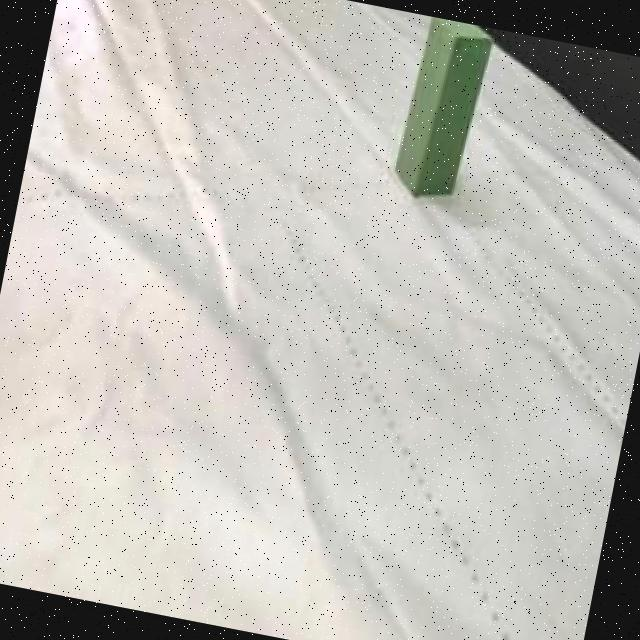greenbox: (386, 13, 496, 204)
